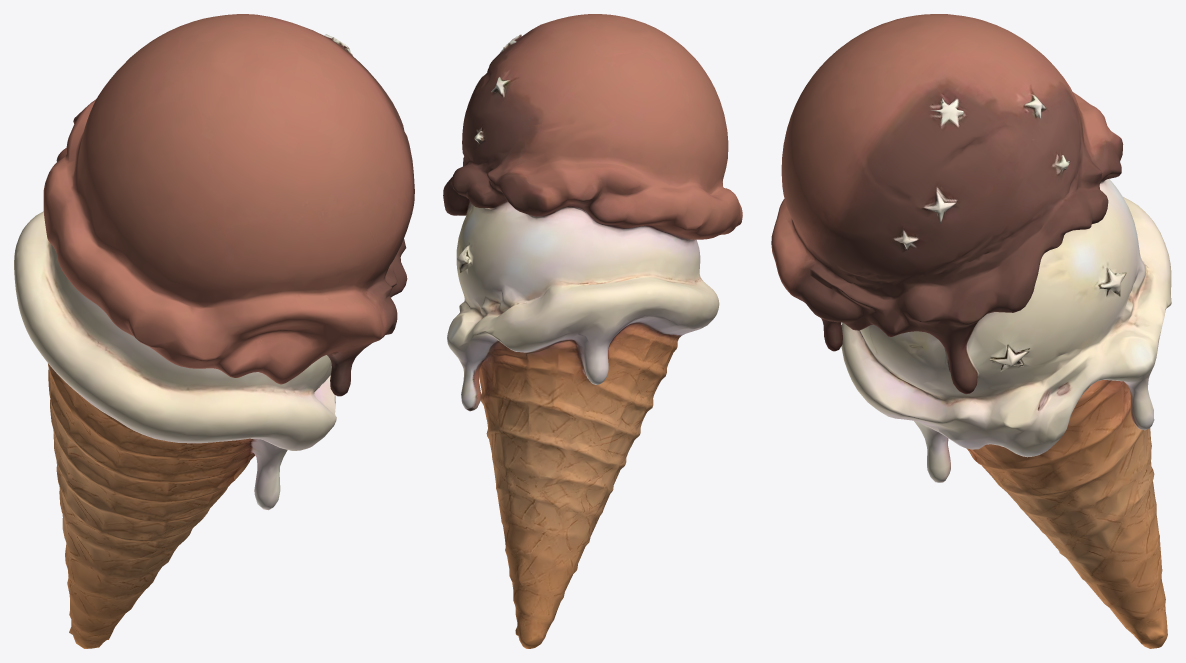
File: swirl-cone.glb
3 renders of one model, left to right at view 1: azimuth 30°, elevation 25°; view 2: azimuth 150°, elevation 25°; view 3: azimuth 270°, elevation 25°, orthographic. The views are drawn at different scales.
Parts seen in each view (by area): view 1: tripo_node_e540a019-b079-4501-9c33-8dd9f35ba1a4_0; view 2: tripo_node_e540a019-b079-4501-9c33-8dd9f35ba1a4_0; view 3: tripo_node_e540a019-b079-4501-9c33-8dd9f35ba1a4_0.
Boxes of the visible parts, x1,y1,x2,y2 form: tripo_node_e540a019-b079-4501-9c33-8dd9f35ba1a4_0: (14, 14, 414, 648); tripo_node_e540a019-b079-4501-9c33-8dd9f35ba1a4_0: (443, 14, 742, 648); tripo_node_e540a019-b079-4501-9c33-8dd9f35ba1a4_0: (771, 14, 1171, 648).
Bounding box in the file's own units: 0.4979 × 1 × 0.5723.
Materials: 1 (1 with a texture image).
